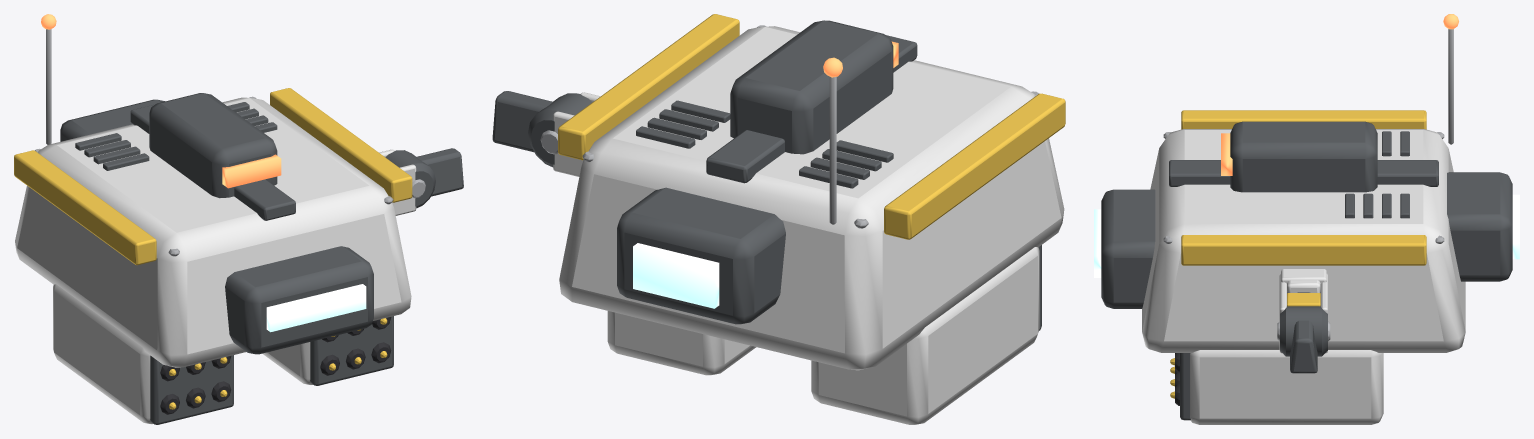
File: missile.glb
3 views of the same model, side by side, from view 1: azimuth 30°, elevation 25°; view 2: azimuth 150°, elevation 25°; view 3: azimuth 270°, elevation 25° (orthographic). The views are drawn at different scales.
Parts seen in each view (by area): view 1: Hull, Barrel, Turret, LegUpper, LegLower; view 2: Hull, Barrel, Turret, LegUpper, LegLower; view 3: Hull, Barrel, Turret, LegUpper, LegLower.
Boxes of the visible parts, x1,y1,x2,y2 form: Hull: [14, 14, 412, 367]; Barrel: [53, 284, 393, 424]; Turret: [149, 93, 281, 198]; LegUpper: [379, 149, 435, 215]; LegLower: [416, 148, 463, 196]; Hull: [558, 14, 1065, 370]; Barrel: [607, 245, 1041, 424]; Turret: [730, 20, 898, 154]; LegUpper: [528, 92, 600, 176]; LegLower: [492, 91, 552, 152]; Hull: [1094, 14, 1519, 352]; Barrel: [1170, 350, 1383, 424]; Turret: [1221, 121, 1377, 192]; LegUpper: [1277, 269, 1330, 356]; LegLower: [1287, 280, 1320, 373].
Bounding box in the file's own units: 0.72 × 0.558 × 0.694.
